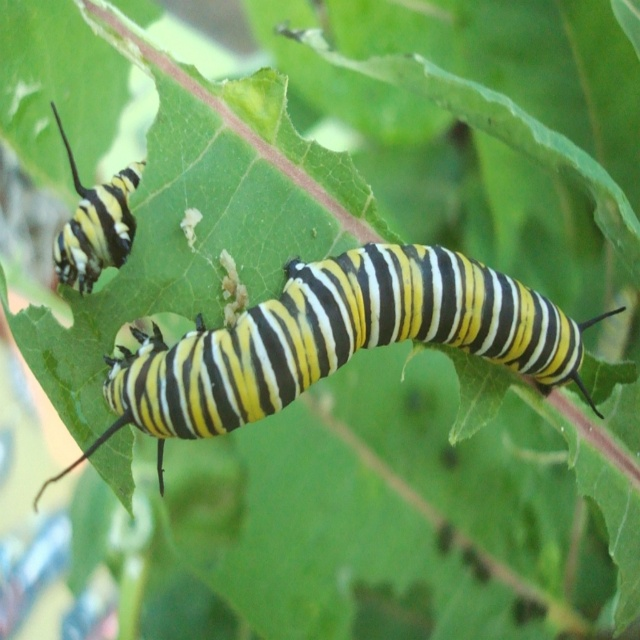Caterpillar: (30, 239, 626, 512), (49, 97, 147, 295)
